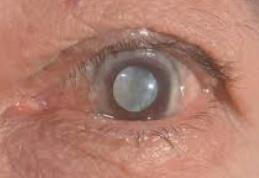eye: (95, 52, 179, 120)
